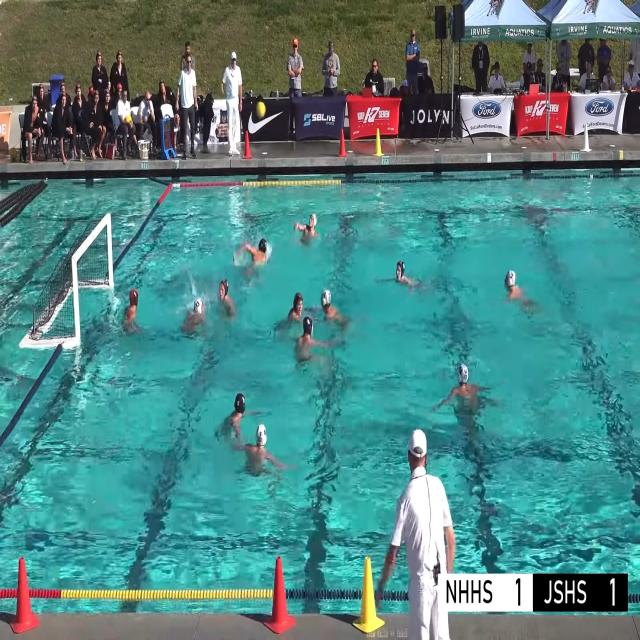ball: (256, 101, 266, 118), (126, 113, 132, 123)
